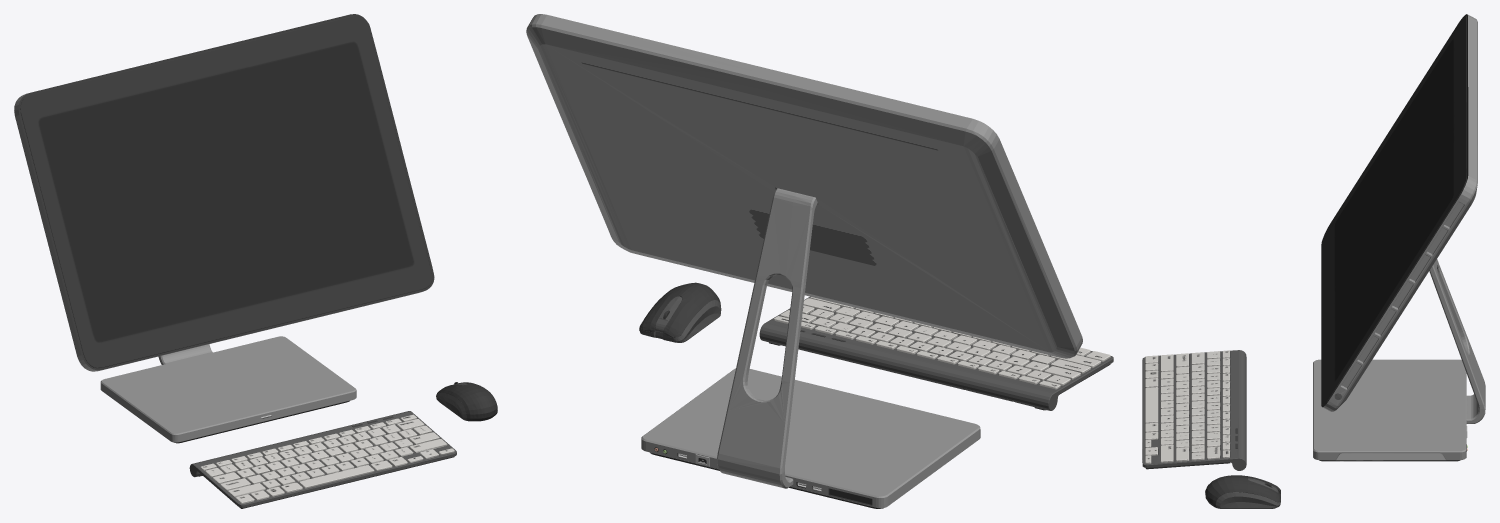
Rendered from computer.gltf.
3 views of the same model, side by side, from view 1: azimuth 30°, elevation 25°; view 2: azimuth 150°, elevation 25°; view 3: azimuth 270°, elevation 25° (orthographic). The views are drawn at different scales.
Size of the model in its own units: 0.7465 by 0.622 by 0.6014.
Materials: 1 (1 with a texture image).
